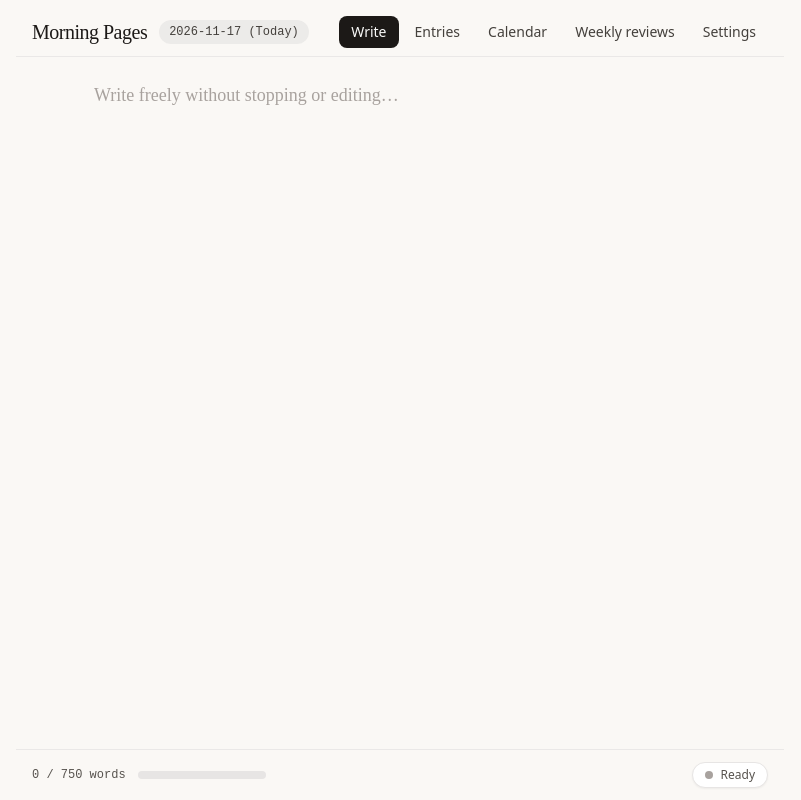
Scenario: Brief 8: Weekly Reviews View & AI Consent Flow › displays the non-therapy disclaimer, lists weekly summaries, expands summary detail, and deletes a summary
Click the button "Weekly reviews": (625, 32) x1=563 y1=16 x2=687 y2=48
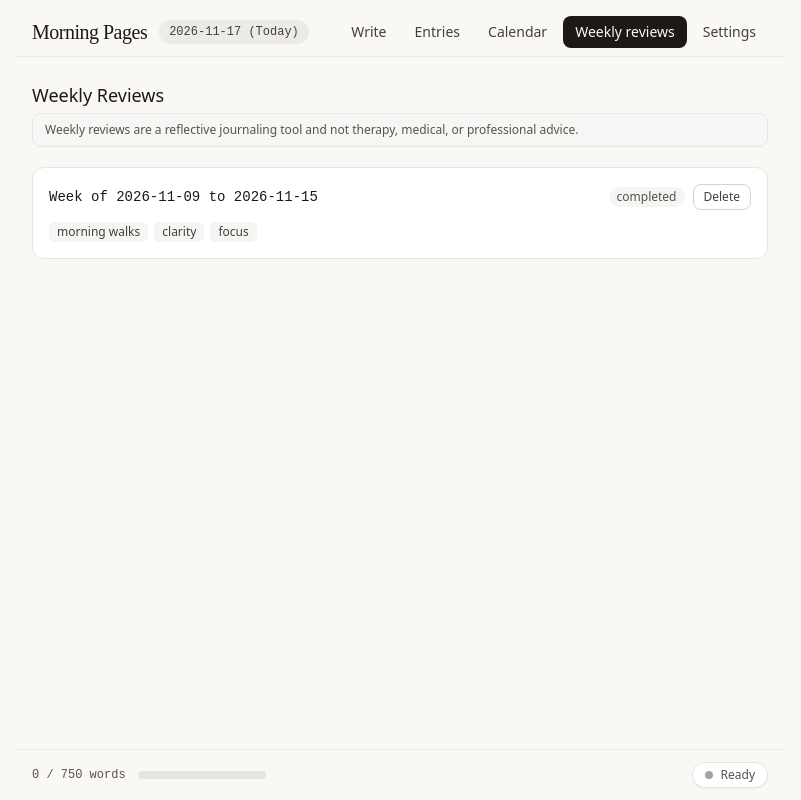
Now the text "not therapy" is shown, box x1=45 y1=121 x2=578 y2=138
Now the text "professional advice" is shown, box x1=45 y1=121 x2=578 y2=138
# Renders the summary item in the list and expands its detail on click
Click the button "Week of 2026-11-09 to 2026-11-15": (183, 197) x1=49 y1=187 x2=318 y2=207
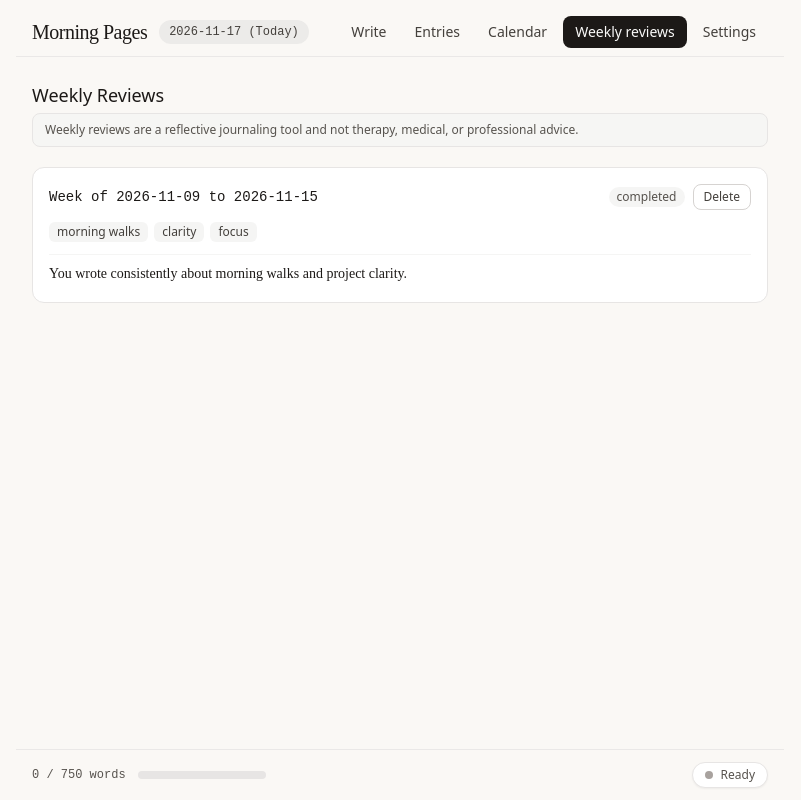
Now the text "You wrote consistently about morning walks and project clarity." is shown, box x1=49 y1=254 x2=751 y2=286
Click the button with aria-label "Delete summary for 2026-11-09": (722, 197) x1=692 y1=184 x2=751 y2=210
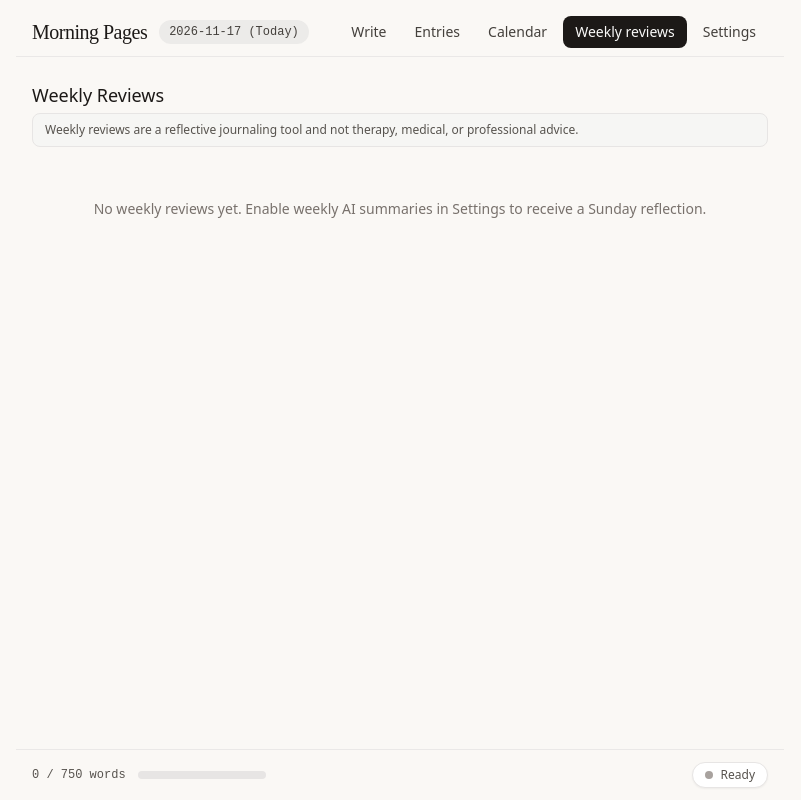
Now the text "No weekly reviews yet" is shown, box x1=94 y1=199 x2=706 y2=218
